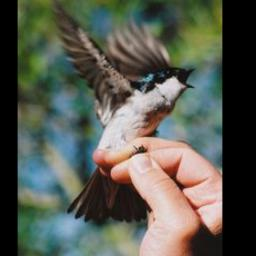Swallow: (40, 0, 198, 224)
